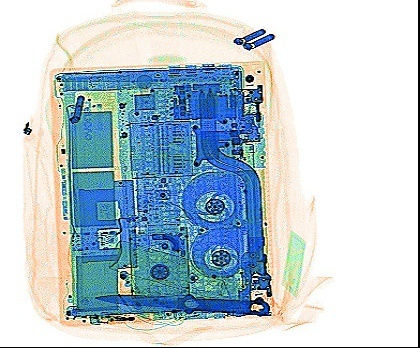knife: (92, 292, 271, 316)
lighter: (86, 310, 153, 325)
pressure: (106, 239, 238, 300)
